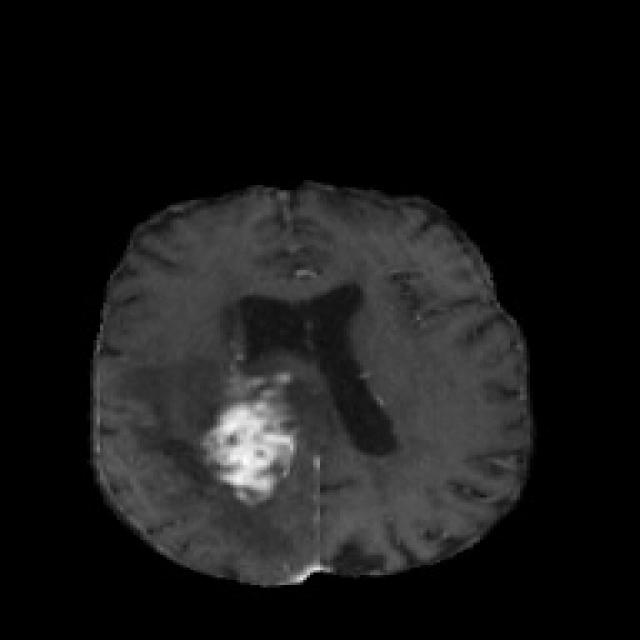positive: (202, 399, 295, 501)
